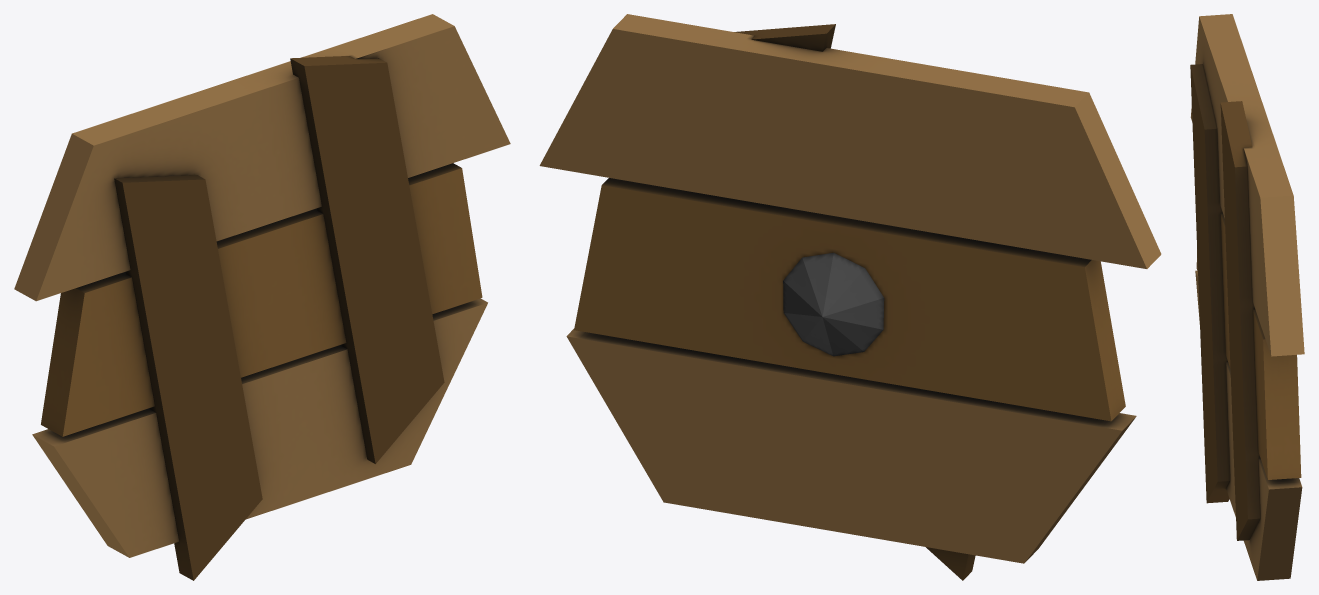
File: Shield.fbx
3 views of the same model, side by side, from view 1: azimuth 30°, elevation 25°; view 2: azimuth 150°, elevation 25°; view 3: azimuth 270°, elevation 25° (orthographic). The views are drawn at different scales.
Visible parts, largest first — view 1: Shield; view 2: Shield; view 3: Shield.
Boxes of the visible parts, x1,y1,x2,y2 form: Shield: (14, 14, 510, 580); Shield: (539, 14, 1161, 580); Shield: (1190, 14, 1304, 580).
Bounding box in the file's own units: 51.45 × 45.33 × 10.31.
1 material, 1 textured.
